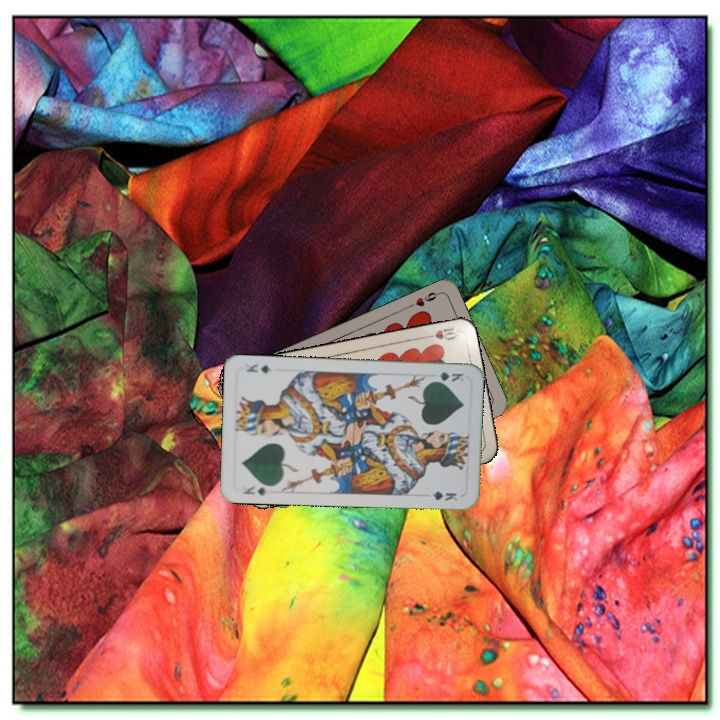GK: (427, 367, 466, 384), (239, 481, 268, 498)
H10: (419, 322, 460, 343)
H9: (404, 288, 443, 310)
